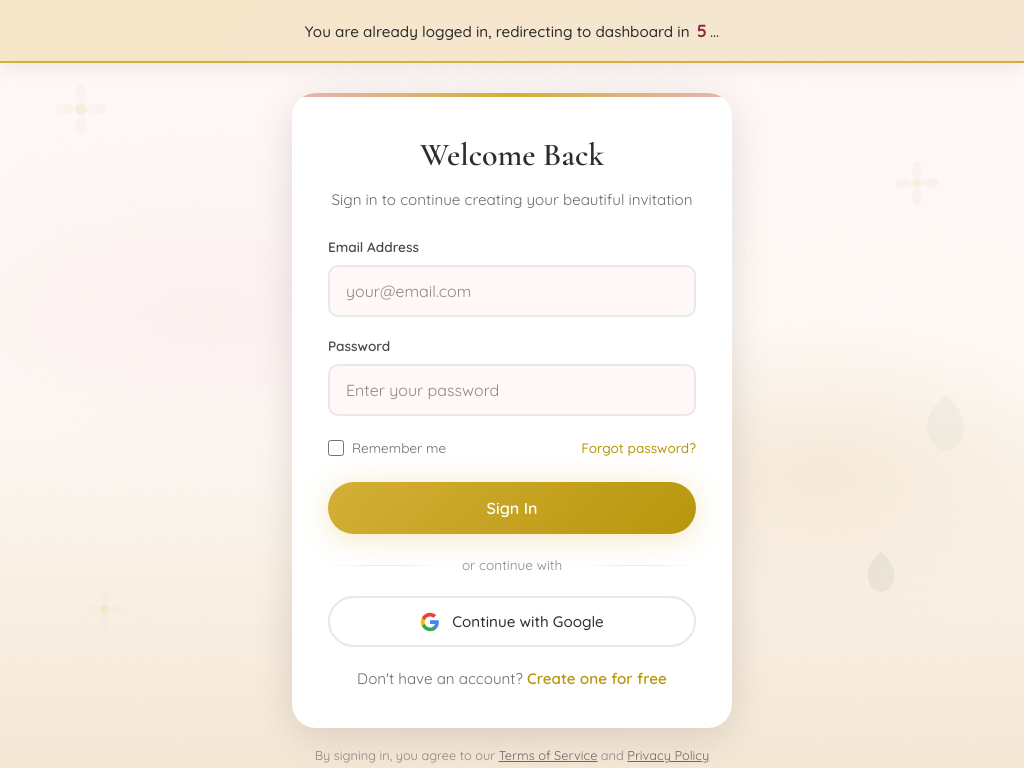
LoginPage › Form Submission › should show error for invalid credentials
Type "wrong@example.com" into the field labelled "Email Address" at (512, 291), box [328,265,696,317]
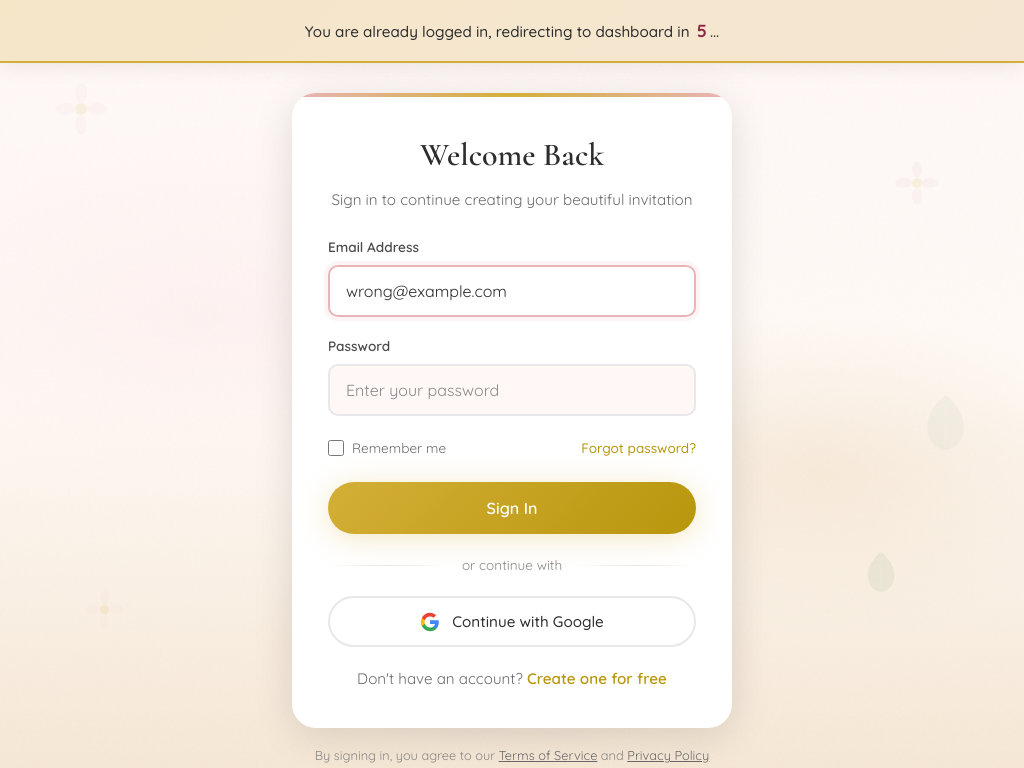
Type "wrongpassword" into the password field labelled "Password" at (512, 390), box [328,364,696,416]
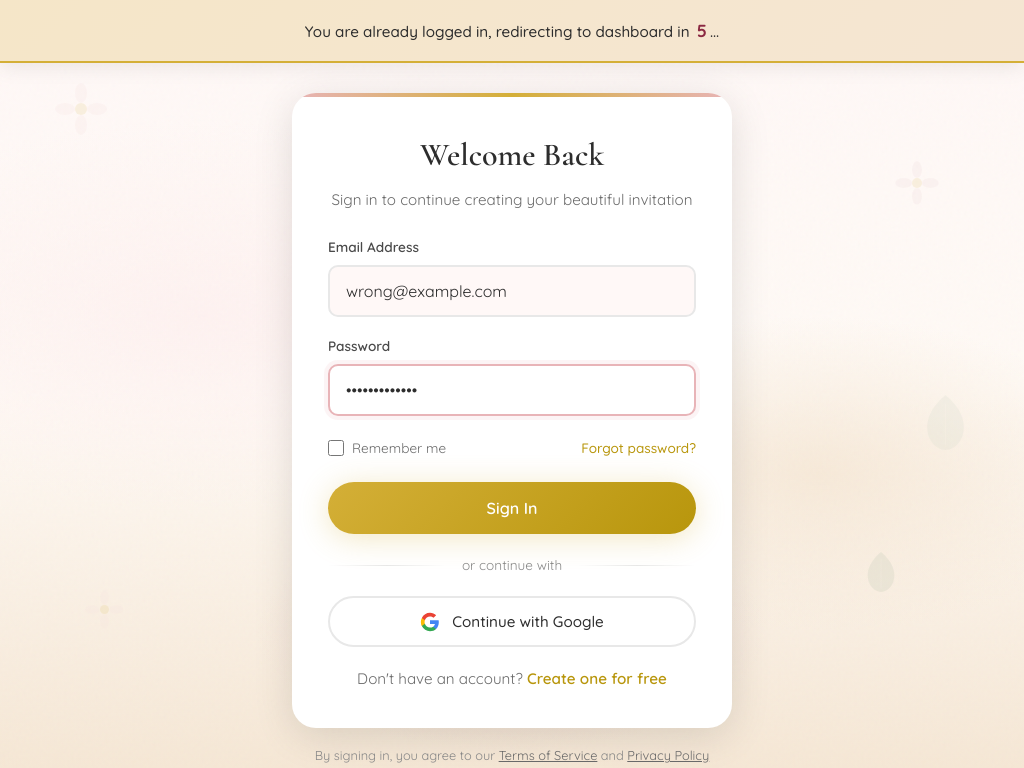
Click the button "Sign In" at (512, 508), box [328,482,696,534]
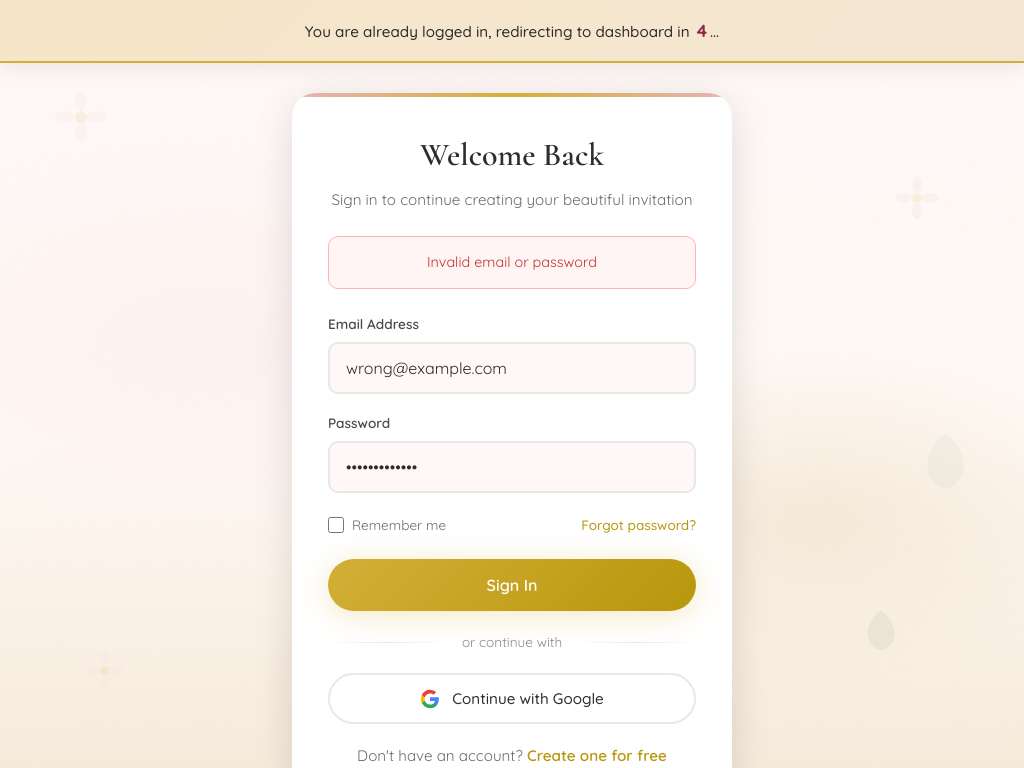
Check: the text "Invalid email or password" is shown, box [328,236,696,289]
